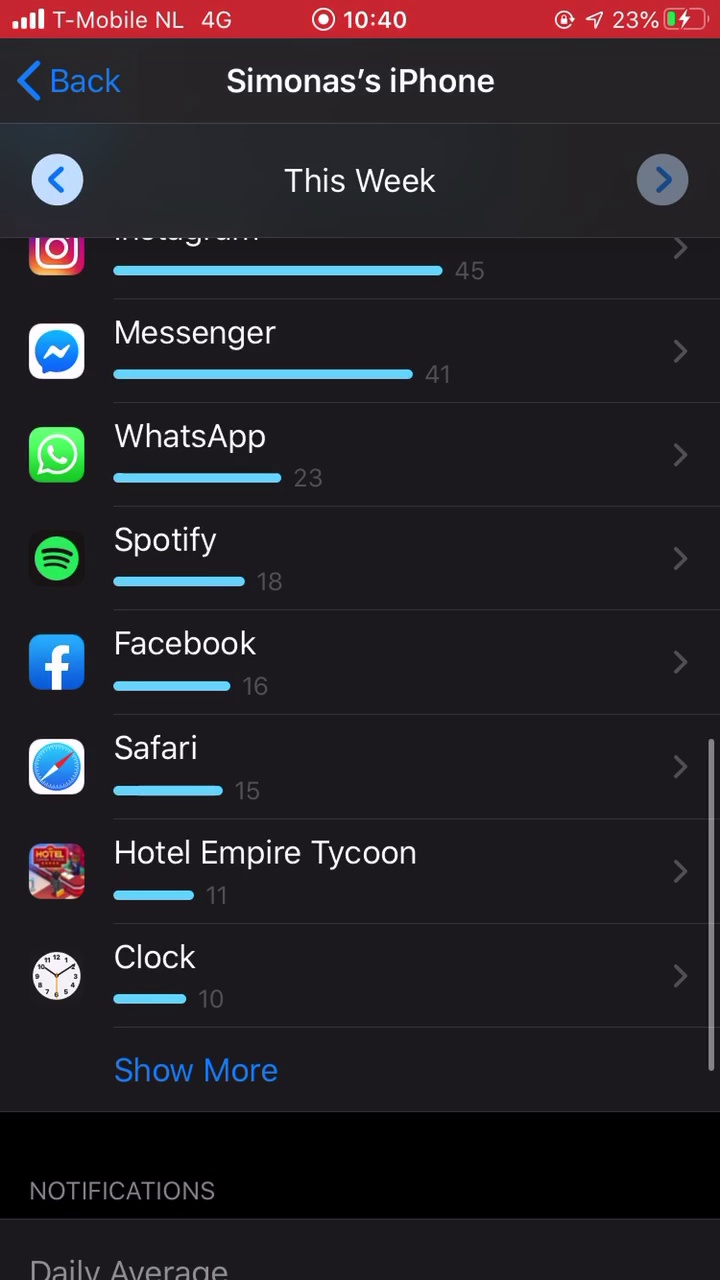pick_app: (12, 310, 470, 410), (18, 827, 440, 919), (18, 422, 365, 503), (23, 936, 315, 1028), (17, 628, 303, 716), (18, 528, 307, 610), (18, 724, 262, 811)
week: (244, 152, 452, 209)
